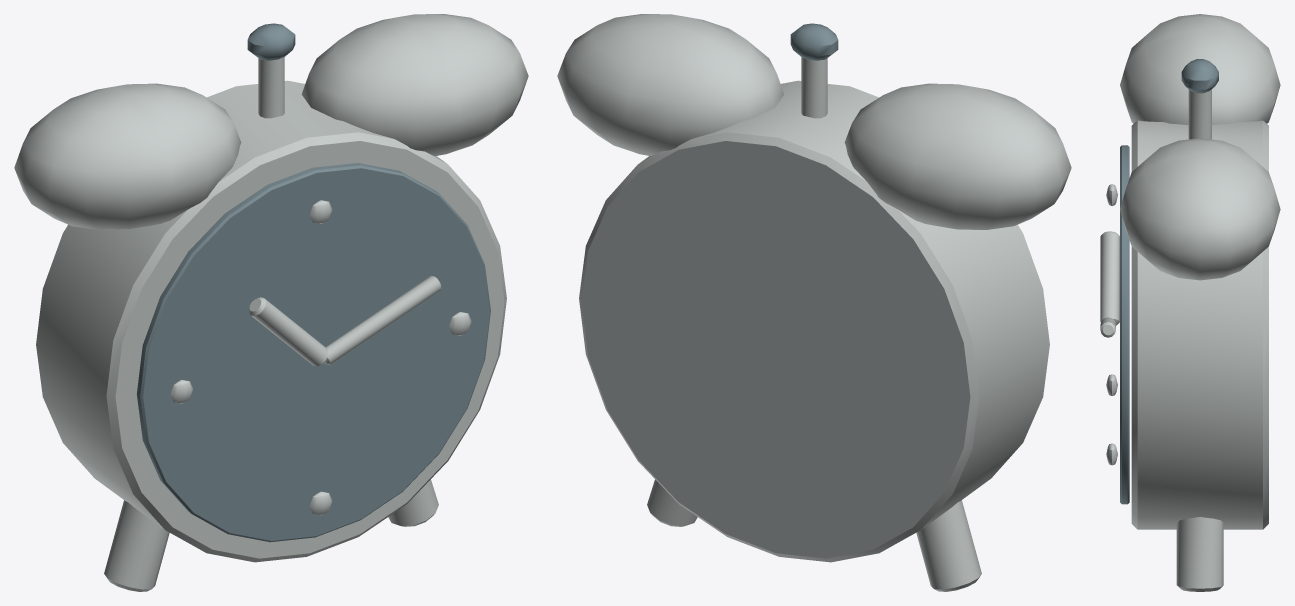
Rendered from alarm-clock.glb.
The picture shows the model from 3 angles, left to right: view 1: azimuth 30°, elevation 25°; view 2: azimuth 150°, elevation 25°; view 3: azimuth 270°, elevation 25°; orthographic projection. The views are drawn at different scales.
Parts seen in each view (by area): view 1: clock_face, clock_body, bell, bell.001, clock_foot, minute_hand, hour_hand, bell_hammer, hammer_head, clock_foot.001; view 2: clock_body, bell, bell.001, clock_foot, bell_hammer, hammer_head, clock_foot.001; view 3: clock_body, bell.001, bell, clock_foot.001, clock_face, hour_hand, bell_hammer, hammer_head, minute_hand.
Boxes of the visible parts, x1,y1,x2,y2 form: clock_face: [136, 163, 490, 542]; clock_body: [36, 80, 506, 562]; bell: [14, 83, 241, 229]; bell.001: [301, 14, 528, 155]; clock_foot: [104, 500, 169, 591]; minute_hand: [324, 276, 441, 365]; hour_hand: [249, 297, 328, 366]; bell_hammer: [258, 57, 284, 118]; hammer_head: [247, 23, 295, 60]; clock_foot.001: [388, 479, 438, 526]; clock_body: [579, 80, 1049, 562]; bell: [844, 83, 1071, 229]; bell.001: [557, 14, 784, 155]; clock_foot: [916, 500, 981, 591]; bell_hammer: [801, 57, 827, 118]; hammer_head: [790, 23, 838, 60]; clock_foot.001: [647, 479, 697, 526]; clock_body: [1131, 120, 1268, 529]; bell.001: [1120, 138, 1280, 280]; bell: [1120, 14, 1280, 124]; clock_foot.001: [1176, 517, 1223, 591]; clock_face: [1120, 145, 1129, 504]; hour_hand: [1100, 231, 1119, 325]; bell_hammer: [1188, 89, 1211, 139]; hammer_head: [1181, 59, 1218, 93]; minute_hand: [1100, 317, 1115, 337].
Size of the model in its own units: 0.26 by 0.2649 by 0.092.
